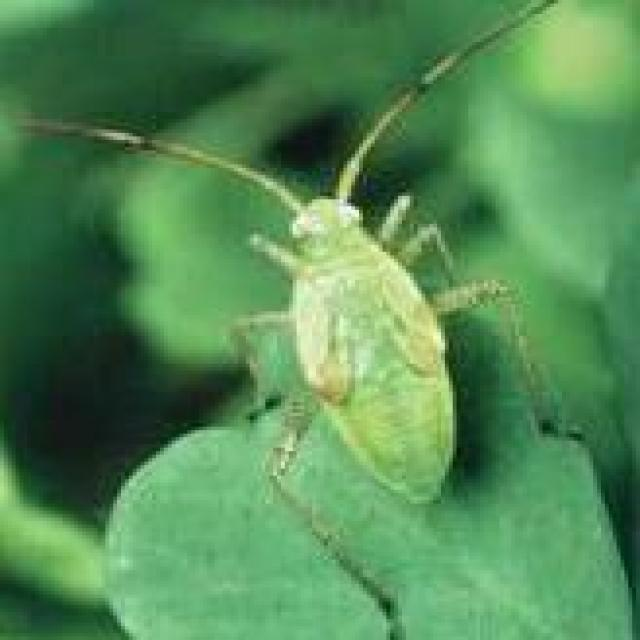Miridae-Adult-: (32, 6, 594, 510)
